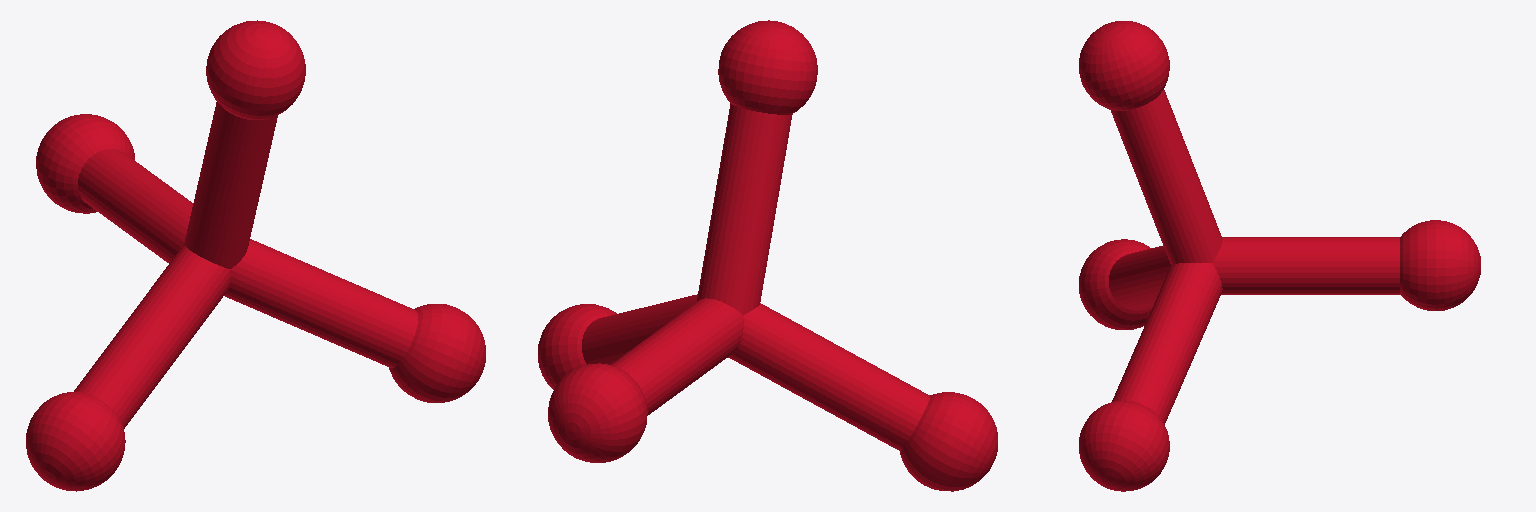
URDF robot description (ring):
<?xml version="0.0" ?>
<robot name="ring">
    <material name="red">
        <color rgba="0.8 0.1 0.2 1"/>
    </material>

    <link name="baseLink">
        <!-- from lego/lego.urdf -->
        <contact>
            <lateral_friction value="1.0"/>
            <rolling_friction value="0.0"/>
            <contact_cfm value="0.0"/>
            <contact_erp value="1.0"/>
        </contact>
        <inertial>
            <origin rpy="0 0 0" xyz="0 0 0"/>
            <mass value="0.5"/>
            <inertia ixx="1" ixy="0" ixz="0" iyy="1" iyz="0" izz="1"/>
        </inertial>
        <visual>
            <origin rpy="0 0 0" xyz="0 0 0"/>
            <geometry>
                <!--        radius: 10mm, depth: 14.5mm-->
                <mesh filename="meshes/CH4.obj" scale="0.01 0.01 0.01"/>
                <!--        <box size="0.002 0.002 0.002"/>-->
            </geometry>
            <material name="red"/>
        </visual>
        <collision>
            <origin rpy="0 0 0" xyz="0 0 0"/>
            <geometry>
                <mesh filename="meshes/CH4_vhacd.obj" scale="0.01 0.01 0.01"/>
                <!--        <box size="0.002 0.002 0.002"/>-->
            </geometry>
        </collision>
    </link>
    
    <link name="waypoint_0">
        <!--    origin-->
        <inertial>
            <origin rpy="0 0 0" xyz="0 0 0"/>
            <mass value=".0"/>
            <inertia ixx="0." ixy="0" ixz="0" iyy="0." iyz="0" izz="0."/>
        </inertial>
    </link>

    <joint name="waypoint_joint_0" type="fixed">
        <parent link="baseLink"/>
        <child link="waypoint_0"/>
        <origin rpy="0 0 0" xyz="0 0 0"/>
    </joint>

    <link name="waypoint_1">
        <!--    middle-->
        <inertial>
            <origin rpy="0 0 0" xyz="0 0 0"/>
            <mass value=".0"/>
            <inertia ixx="0." ixy="0" ixz="0" iyy="0." iyz="0" izz="0."/>
        </inertial>
           <!-- <visual>
             <origin rpy="0 0 0" xyz="0 0 0"/>
             <geometry>
               <box size="0.002 0.002 0.002"/>
             </geometry>
             <material name="grey"/>
           </visual> -->
    </link>

    <joint name="waypoint_joint_1" type="fixed">
        <parent link="baseLink"/>
        <child link="waypoint_1"/>
        <!--    (-R, 0, 0)-->
        <origin rpy="0 0 0" xyz="0 0.01 0"/>
    </joint>
</robot>

--- Render facts (derived) ---
The picture shows the robot from 3 angles, left to right: view 1: azimuth 30°, elevation 25°; view 2: azimuth 150°, elevation 25°; view 3: azimuth 270°, elevation 25°; orthographic projection.
Robot: ring — 3 links, 2 joints (2 fixed); root link baseLink; default pose: all joints at 0.
Links seen in each view (by area): view 1: baseLink; view 2: baseLink; view 3: baseLink.
Link boxes in pixels (box(x1,y1,x2,y2)): baseLink: box(26, 20, 485, 491); baseLink: box(538, 20, 997, 491); baseLink: box(1079, 21, 1480, 491).
Size in the robot's own frame: 0.0117 by 0.01 by 0.0104 metres.
Meshes: 1 distinct files referenced, 1 mesh visuals loaded (1 OBJ).